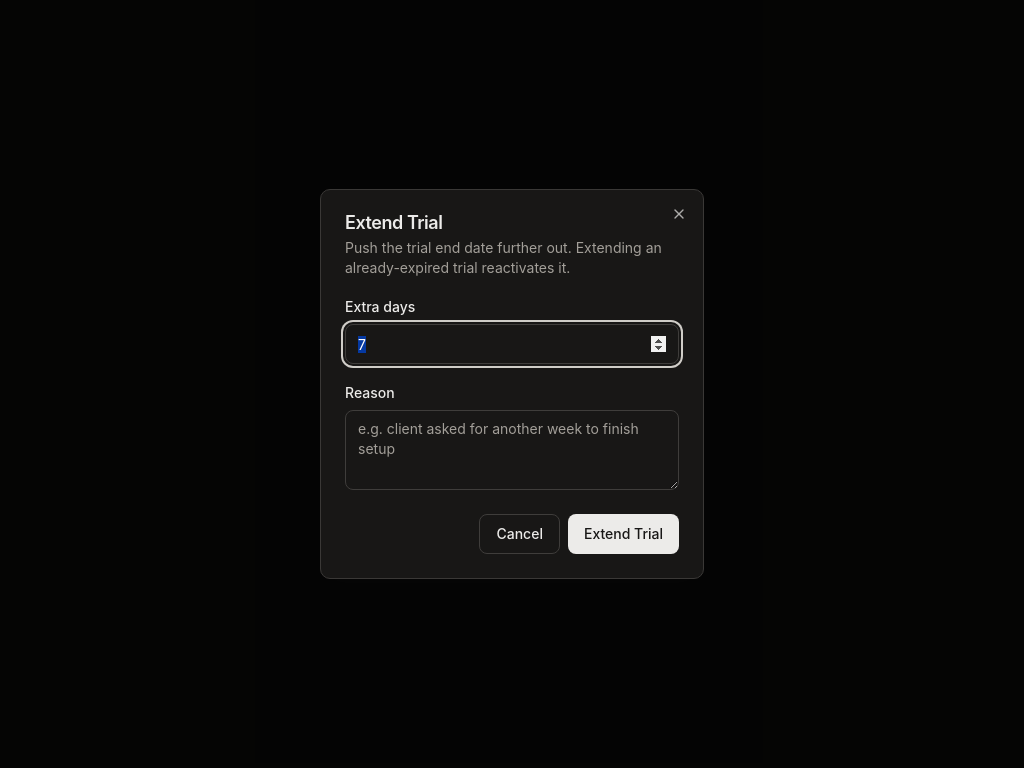
it: ExtendTrialDialog › requires a reason before submitting
The image size is (1024, 768).
Click the button "Extend Trial" at (624, 534), box top-left (568, 514), bottom-right (679, 554)
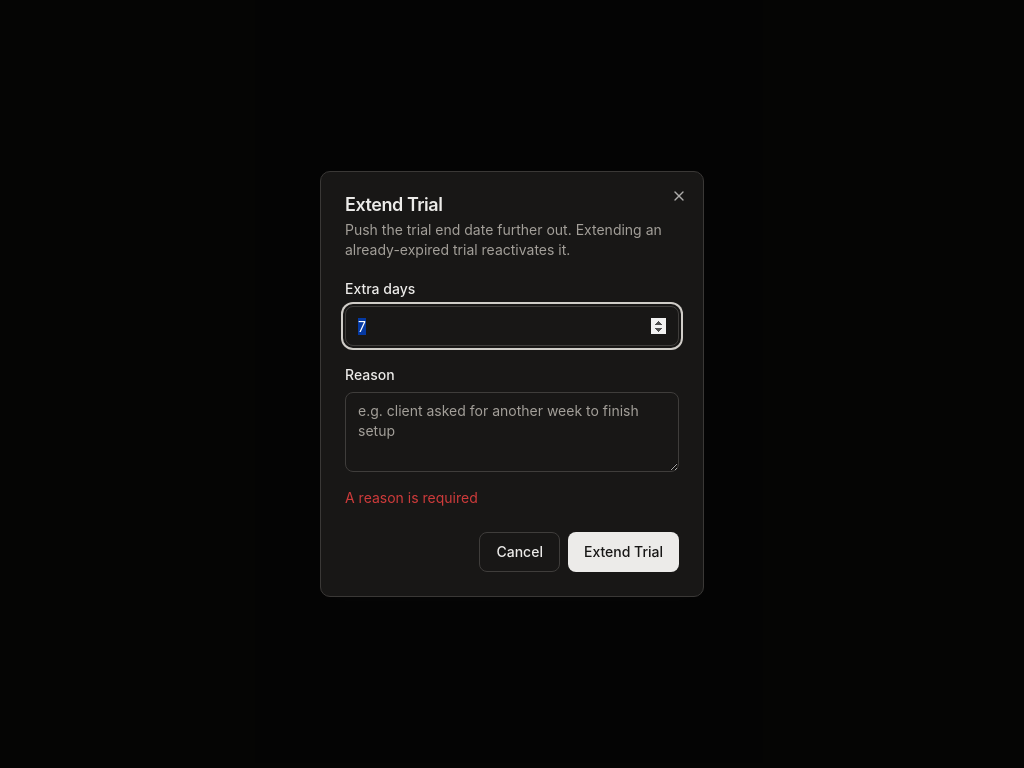
Check: the text "A reason is required" is shown, box top-left (345, 489), bottom-right (478, 506)
